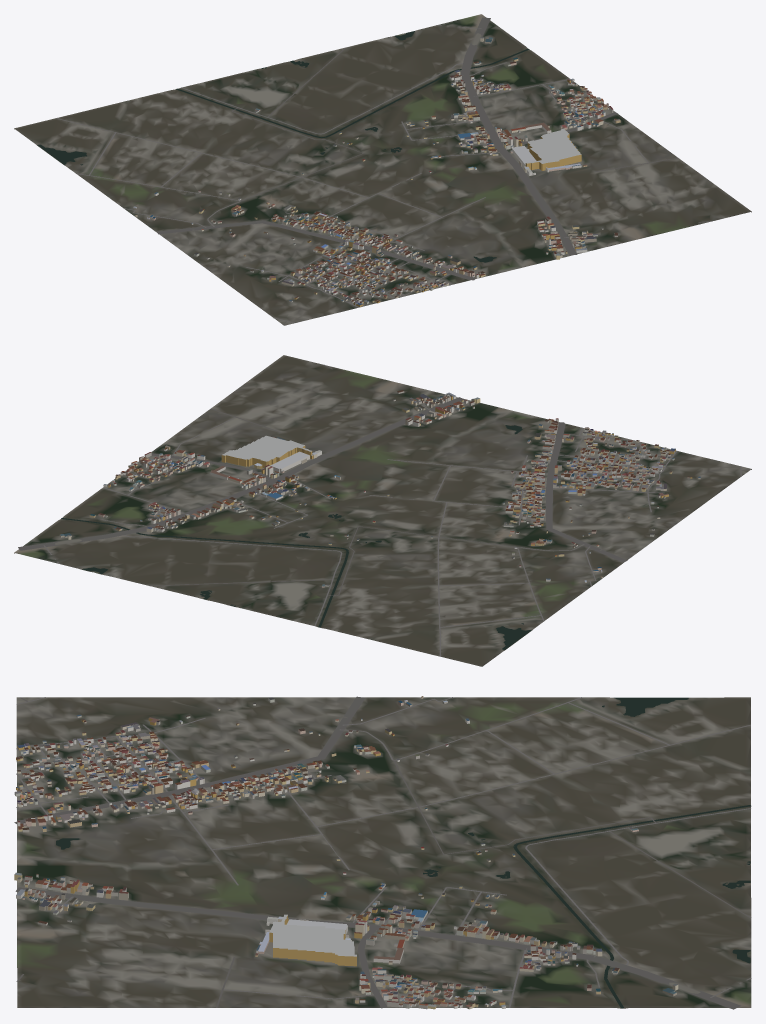
3 views of the same model, one above another, from view 1: azimuth 30°, elevation 25°; view 2: azimuth 150°, elevation 25°; view 3: azimuth 270°, elevation 25° (orthographic). The views are drawn at different scales.
Visible parts, largest first — view 1: ground, buildings, roads, water; view 2: ground, buildings, roads, water; view 3: ground, buildings, roads, water.
Part boxes in pixels (bbox=[...]): ground: bbox=[14, 14, 751, 325]; buildings: bbox=[133, 37, 620, 306]; roads: bbox=[55, 17, 712, 324]; water: bbox=[37, 31, 529, 262]; ground: bbox=[14, 355, 751, 666]; buildings: bbox=[59, 390, 700, 587]; roads: bbox=[18, 364, 750, 656]; water: bbox=[61, 425, 531, 649]; ground: bbox=[16, 697, 751, 1008]; buildings: bbox=[14, 696, 678, 1009]; roads: bbox=[14, 696, 751, 1009]; water: bbox=[56, 697, 751, 1008].
Size of the model in its own units: 1413 by 27.94 by 1409.
